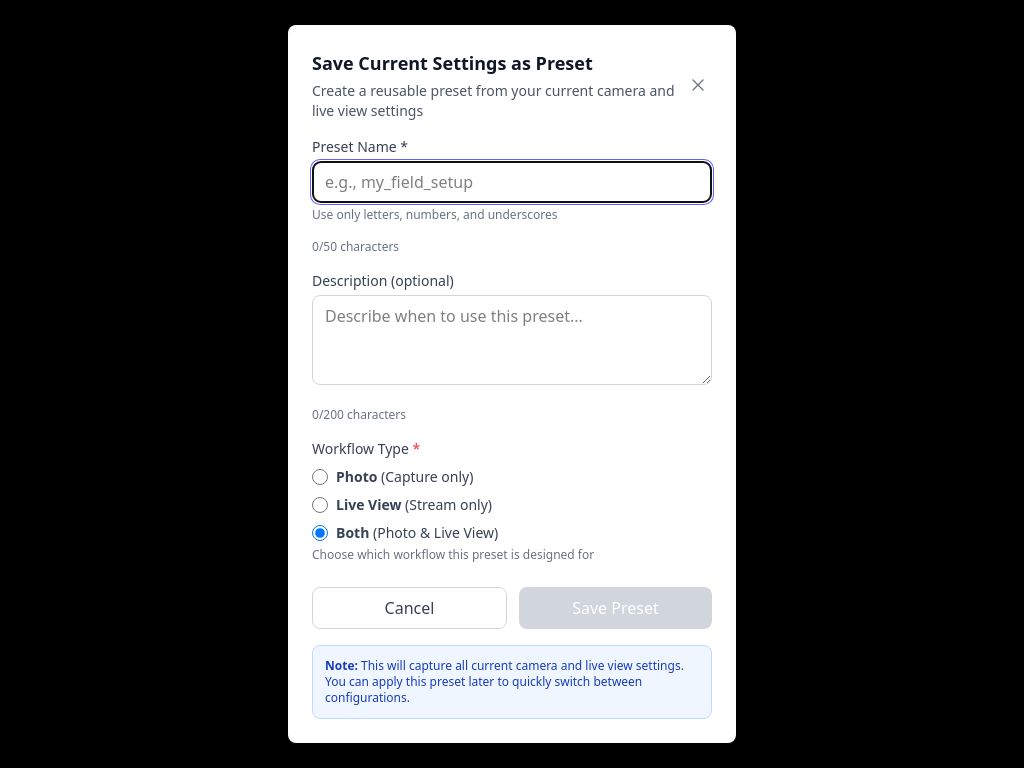
Test: SavePresetModal › Settings validation › clears settings errors when workflow changes to photo
The width and height of the screenshot is (1024, 768).
Type "workflow_test" into the field with placeholder "e.g., my_field_setup" at (512, 182), box top-left (312, 161), bottom-right (712, 203)
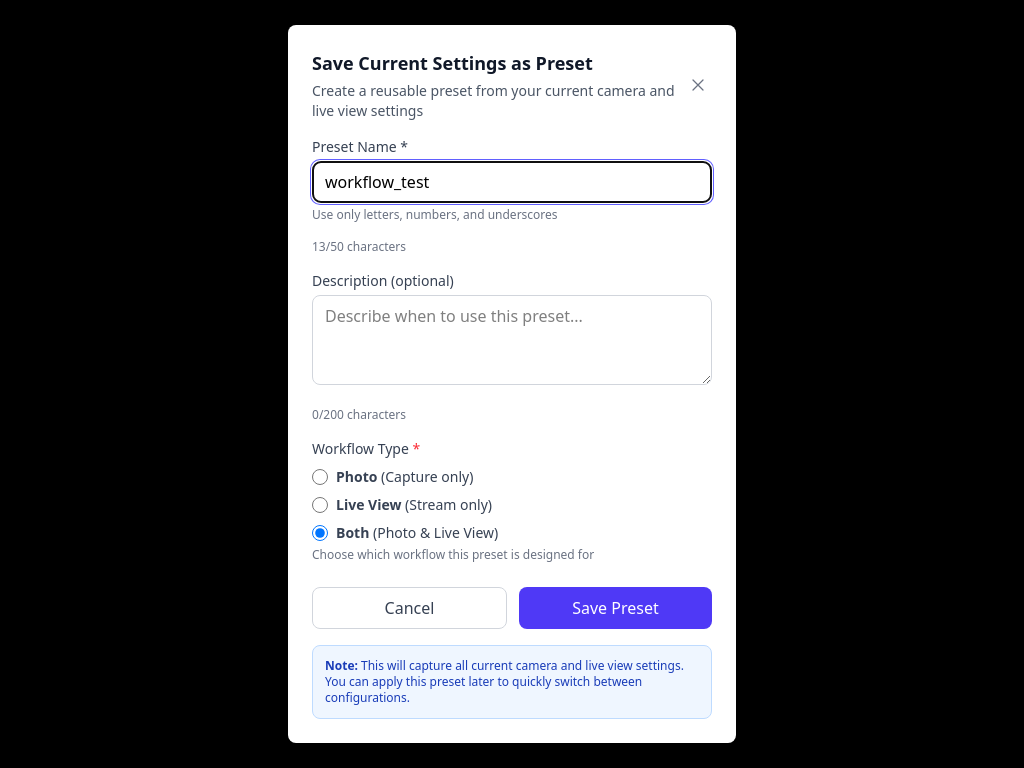
Click the button "Save Preset" at (616, 608), box top-left (519, 587), bottom-right (712, 629)
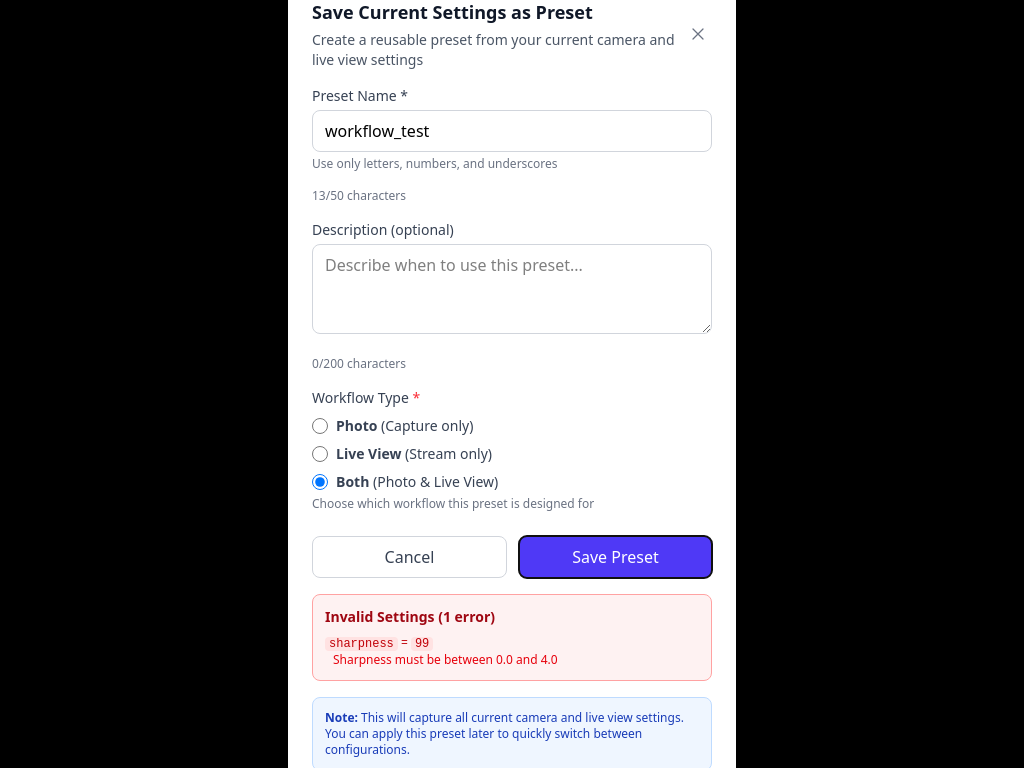
Expected: the message is shown, top-left (312, 594), bottom-right (712, 680)
Switch to photo workflow — settings errors should clear
Click the radio button labelled "Photo (Capture only)" at (320, 426), box top-left (312, 418), bottom-right (328, 434)
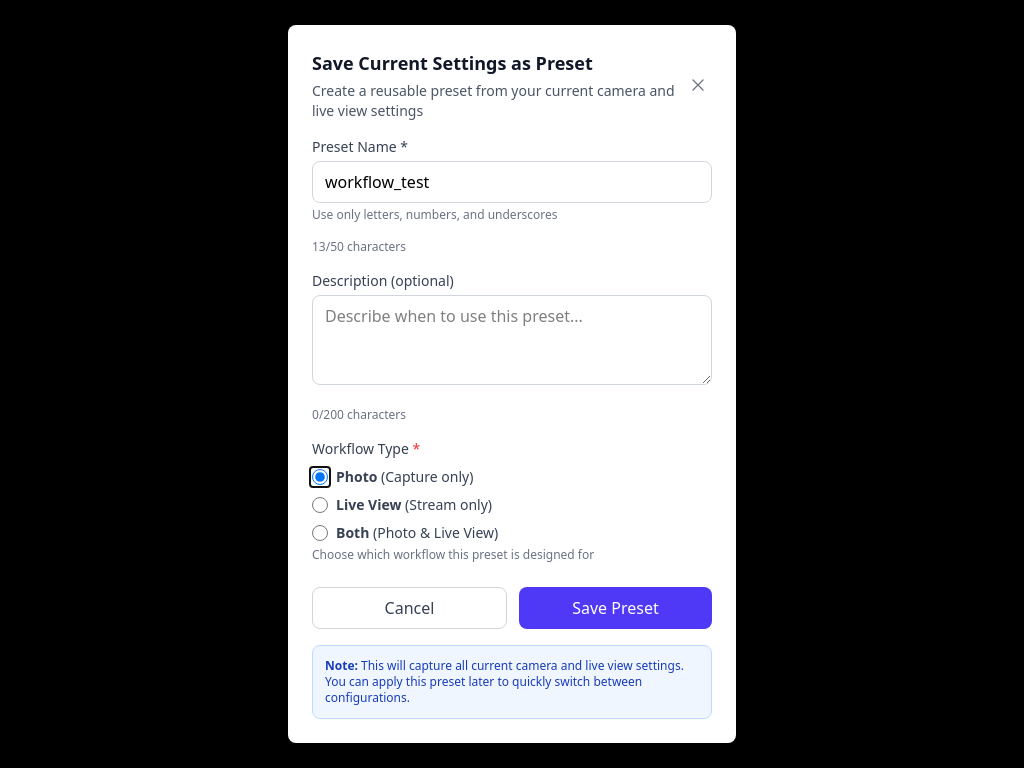
Expected: the message "Invalid Settings (1 error) sharpness = 99 Sharpness must be between 0.0 and 4.0" is gone
